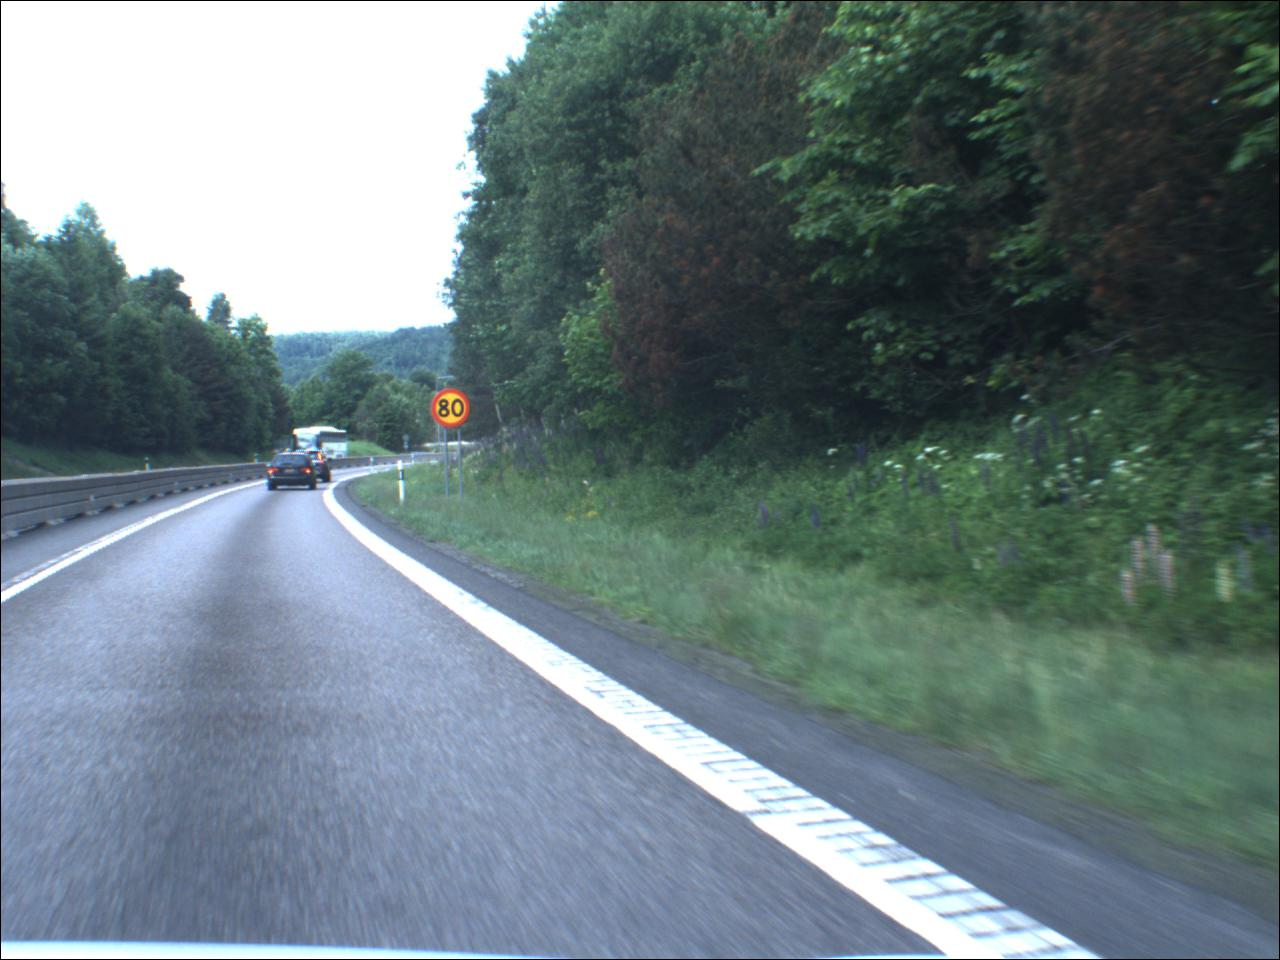80_SIGN: (432, 387, 474, 429)
